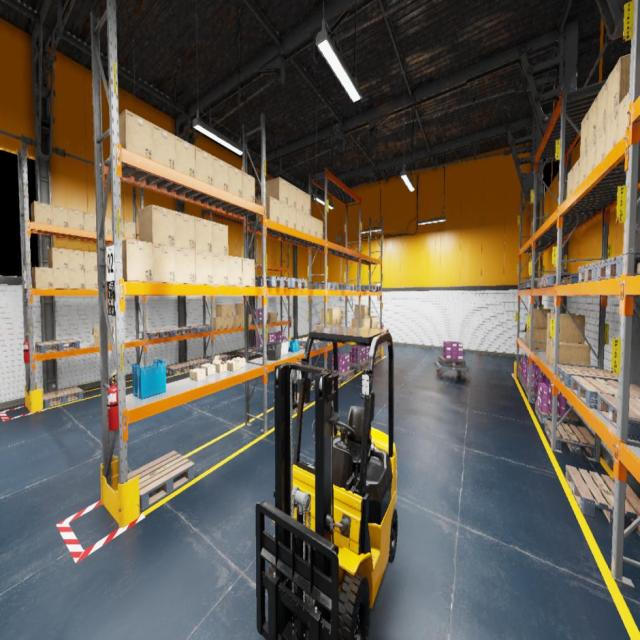box: (119, 109, 153, 160), (138, 204, 176, 247), (606, 54, 630, 122), (122, 239, 153, 281), (152, 123, 176, 170), (550, 313, 585, 343), (553, 342, 590, 368), (152, 244, 176, 282), (175, 136, 195, 178), (175, 211, 195, 250), (546, 314, 578, 338), (176, 247, 195, 284), (596, 78, 608, 134), (196, 147, 213, 186), (605, 106, 618, 156), (617, 91, 629, 143), (256, 196, 279, 223), (266, 177, 288, 205), (196, 217, 213, 253), (196, 250, 213, 284), (30, 201, 52, 225), (213, 156, 228, 191), (595, 122, 606, 167), (213, 253, 228, 286), (213, 222, 228, 255), (31, 267, 53, 289), (588, 95, 597, 147), (528, 308, 551, 328), (229, 164, 242, 198), (228, 255, 242, 286), (48, 248, 68, 269), (92, 326, 114, 345), (242, 171, 255, 203), (52, 205, 69, 228), (52, 268, 70, 289), (242, 258, 255, 287), (580, 110, 588, 157), (587, 136, 596, 176), (532, 328, 547, 350), (69, 208, 84, 230), (69, 249, 84, 270), (316, 324, 332, 343), (580, 148, 588, 185), (84, 270, 98, 290), (321, 308, 337, 325), (70, 270, 85, 288), (572, 158, 580, 191), (212, 356, 227, 373), (566, 167, 574, 198), (84, 251, 96, 271), (112, 218, 124, 237), (84, 212, 96, 231), (279, 201, 288, 226), (190, 368, 206, 382), (528, 328, 540, 346), (288, 182, 296, 209), (328, 307, 341, 323), (296, 187, 304, 212), (124, 221, 135, 239), (288, 205, 296, 229), (200, 363, 215, 375), (296, 210, 304, 232), (355, 305, 367, 319), (210, 316, 222, 329), (226, 360, 240, 371), (304, 191, 310, 215), (216, 304, 228, 316), (304, 212, 310, 235), (105, 216, 112, 235), (232, 358, 245, 368), (368, 316, 378, 328), (352, 318, 364, 328), (317, 219, 323, 239), (310, 216, 316, 236), (224, 304, 234, 316), (550, 340, 554, 368), (268, 312, 277, 322), (234, 315, 241, 327), (546, 338, 549, 364), (222, 316, 228, 329), (236, 304, 243, 314), (229, 316, 234, 328), (526, 325, 528, 344), (105, 254, 107, 272), (525, 323, 527, 340), (364, 319, 367, 328), (249, 314, 251, 326), (241, 315, 243, 327), (368, 318, 370, 328), (106, 272, 107, 280)
forklift: (268, 326, 398, 639)
pallets: (566, 465, 640, 532), (127, 451, 194, 511), (570, 375, 640, 409), (597, 393, 639, 441), (544, 419, 594, 457), (556, 364, 618, 388), (535, 402, 580, 428), (597, 254, 640, 280), (578, 263, 636, 282), (43, 386, 83, 408), (274, 392, 309, 415), (34, 339, 80, 353), (542, 273, 579, 287), (295, 337, 327, 351), (255, 276, 291, 288), (538, 277, 578, 287), (313, 377, 341, 390), (166, 362, 193, 375), (438, 356, 465, 368), (142, 330, 173, 340), (165, 328, 192, 337), (186, 358, 210, 368), (525, 384, 538, 402), (284, 278, 307, 288), (349, 360, 368, 371), (312, 282, 338, 290), (208, 354, 230, 363), (339, 369, 354, 382), (187, 325, 211, 333), (236, 348, 257, 356), (522, 281, 537, 288), (365, 285, 381, 291), (357, 285, 376, 290), (519, 281, 530, 289), (252, 319, 269, 324), (339, 283, 348, 291), (344, 285, 357, 290), (365, 357, 375, 363), (375, 353, 381, 362), (522, 379, 526, 392), (252, 347, 262, 352), (518, 372, 522, 384), (537, 280, 539, 288)
